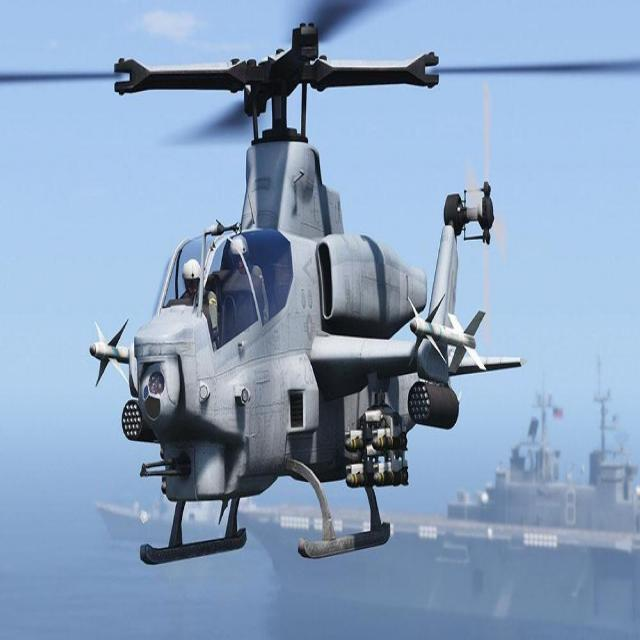MIL_HELO: (80, 0, 640, 593)
